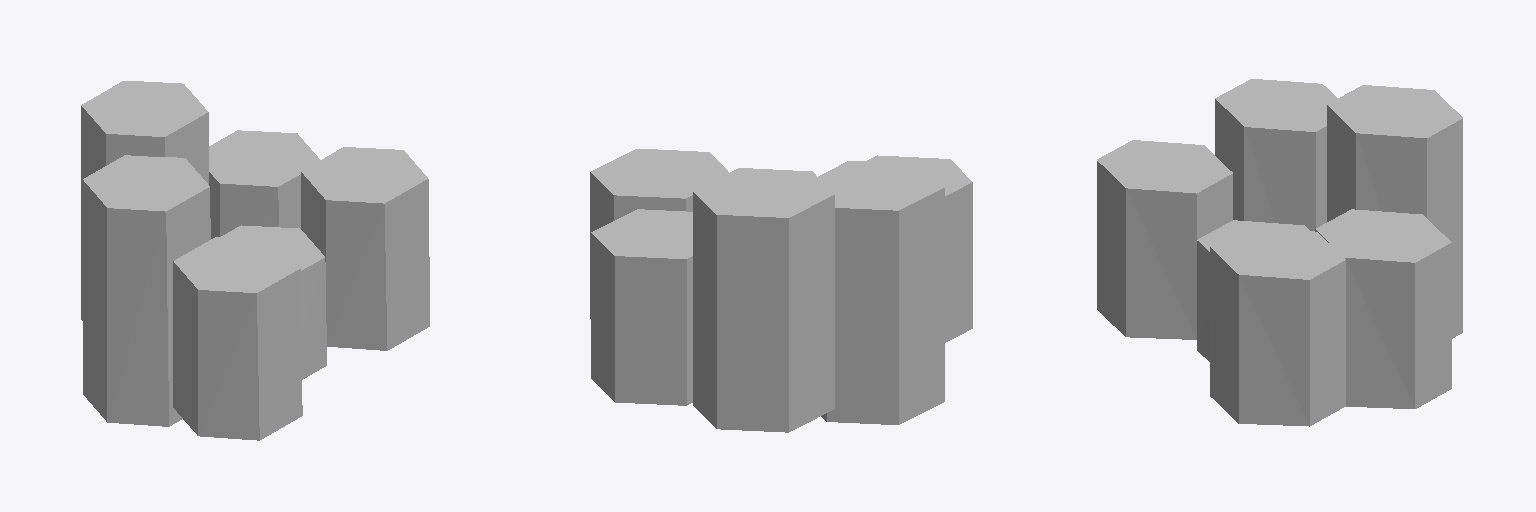
File: MagosClusterRock_Mesh.obj
3 views of the same model, side by side, from view 1: azimuth 30°, elevation 25°; view 2: azimuth 150°, elevation 25°; view 3: azimuth 270°, elevation 25° (orthographic).
Visible parts, largest first — view 1: MagosShrine.001; view 2: MagosShrine.001; view 3: MagosShrine.001.
Boxes of the visible parts, x1=… form: MagosShrine.001: x1=81, y1=81, x2=429, y2=440; MagosShrine.001: x1=590, y1=149, x2=972, y2=432; MagosShrine.001: x1=1097, y1=79, x2=1462, y2=426.
Size of the model in its own units: 14.35 by 9.96 by 14.01.